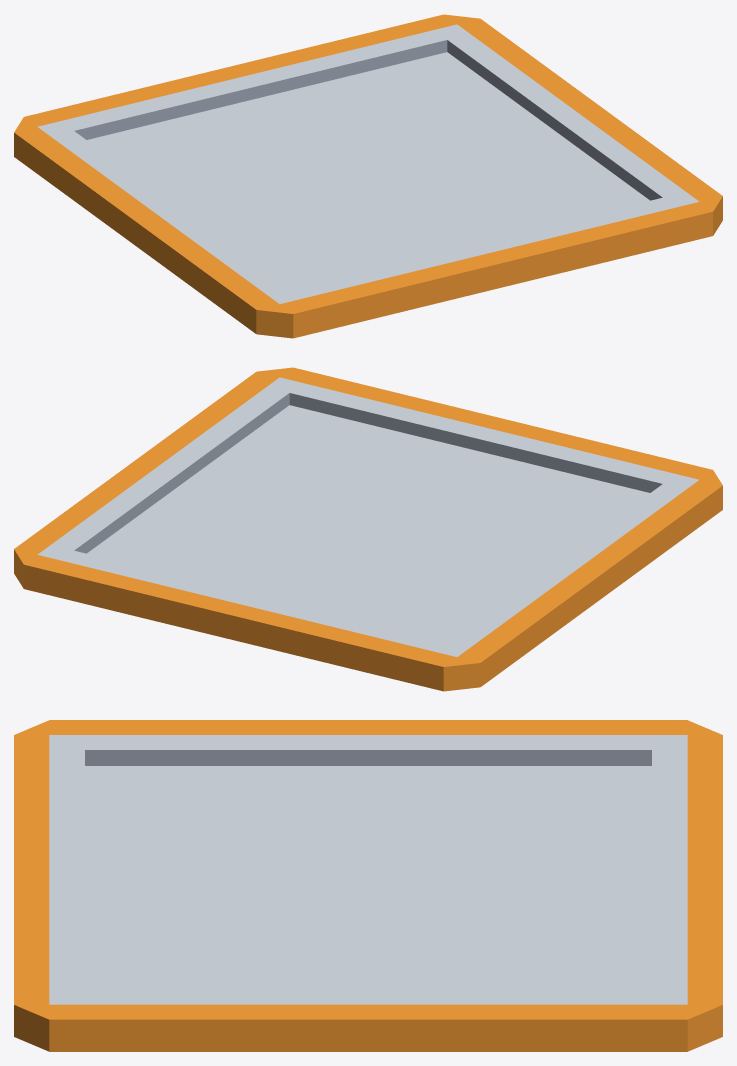
The model's file is platform_large.fbx.
3 views of the same model, one above another, from view 1: azimuth 30°, elevation 25°; view 2: azimuth 150°, elevation 25°; view 3: azimuth 270°, elevation 25° (orthographic). The views are drawn at different scales.
Visible parts, largest first — view 1: platform_large; view 2: platform_large; view 3: platform_large.
Part boxes in pixels (box(x1,y1,x2,y2)): platform_large: box(14, 14, 722, 338); platform_large: box(14, 367, 722, 691); platform_large: box(14, 720, 722, 1051).
Bounding box in the file's own units: 20 × 1 × 20.
